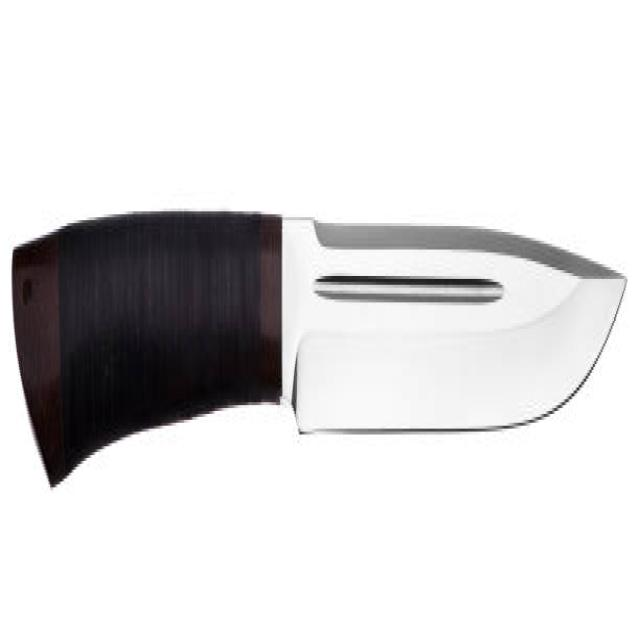knife: (10, 206, 630, 495)
